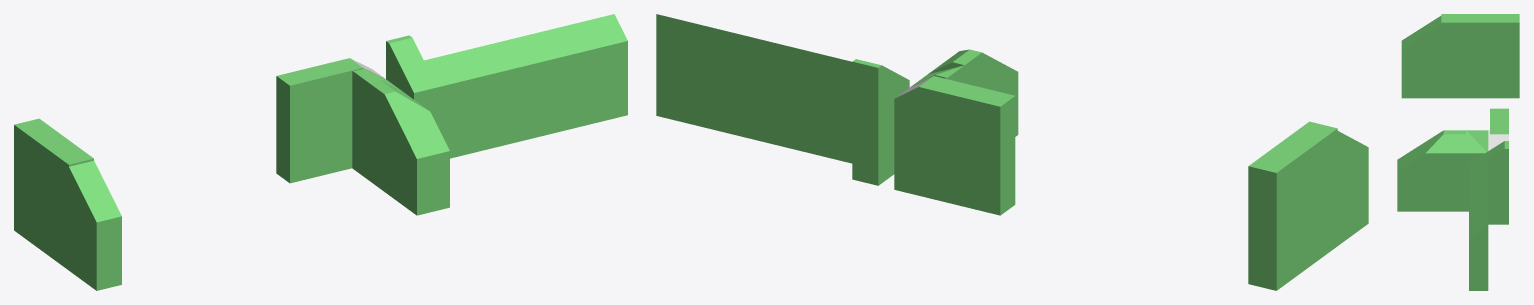
The model's file is RB05__Storey__SecondFloor__ProposedFixtures__MeshModel__.glb.
The picture shows the model from 3 angles, left to right: view 1: azimuth 30°, elevation 25°; view 2: azimuth 150°, elevation 25°; view 3: azimuth 270°, elevation 25°; orthographic projection. The views are drawn at different scales.
Visible parts, largest first — view 1: 27__ProposedBuilding__Fixtures::MAT014__ForDiscussion__Green; view 2: 27__ProposedBuilding__Fixtures::MAT014__ForDiscussion__Green; view 3: 27__ProposedBuilding__Fixtures::MAT014__ForDiscussion__Green, 27__ProposedBuilding__Fixtures::Default.
Part boxes in pixels (<box>): 27__ProposedBuilding__Fixtures::MAT014__ForDiscussion__Green: <box>14,14,627,290</box>; 27__ProposedBuilding__Fixtures::MAT014__ForDiscussion__Green: <box>656,14,1368,290</box>; 27__ProposedBuilding__Fixtures::MAT014__ForDiscussion__Green: <box>1397,14,1519,290</box>; 27__ProposedBuilding__Fixtures::Default: <box>1488,130,1508,150</box>.
Bounding box in the file's own units: 14.88 × 2.6 × 3.81.
